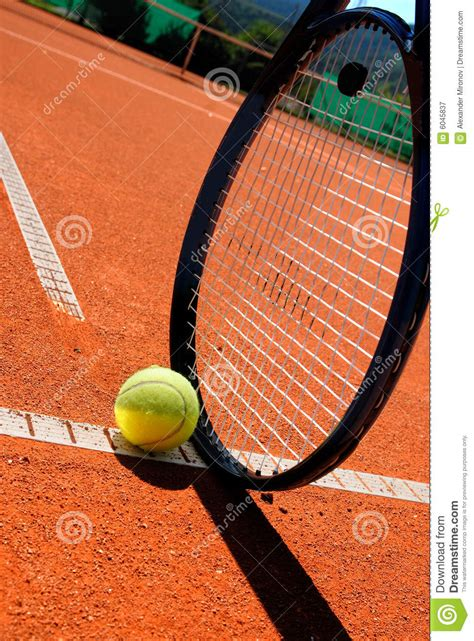tennis_ball: (114, 366, 199, 453)
